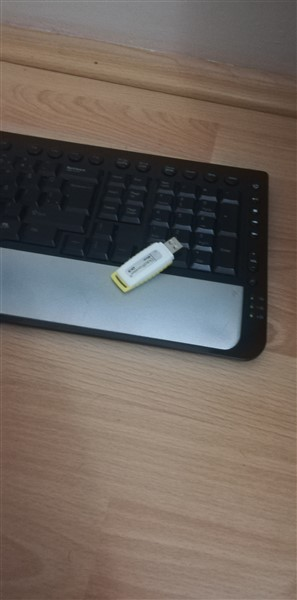flash disk: (112, 228, 185, 300)
klavye: (1, 126, 273, 370)
